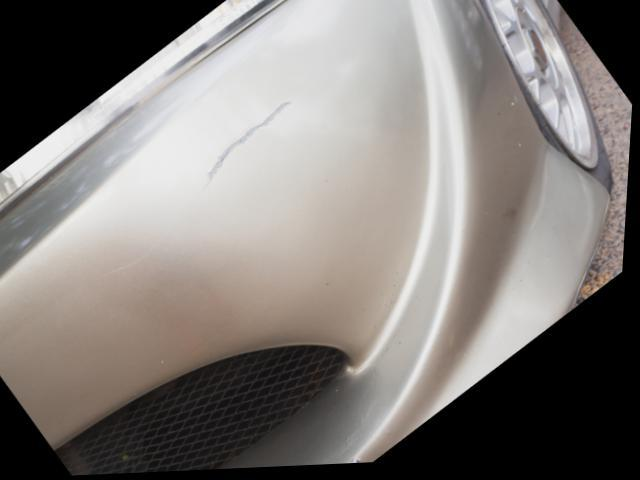scratch: (206, 104, 294, 187)
